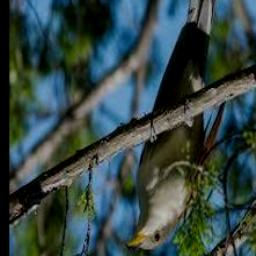Cuckoo: (125, 0, 227, 250)
